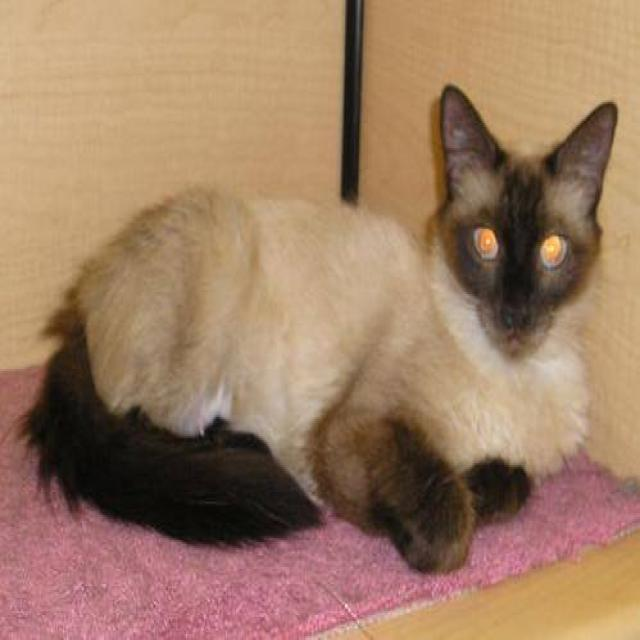cat: (13, 80, 618, 574)
